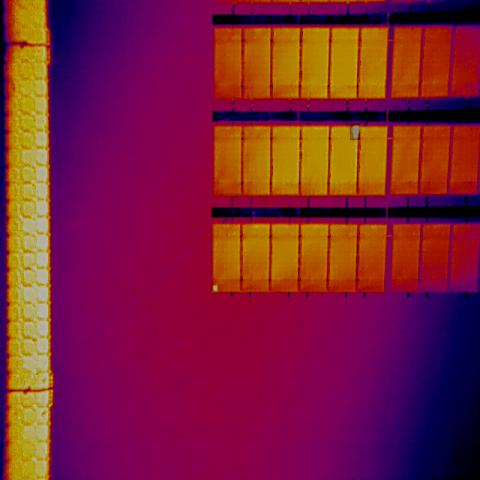fault: (350, 123, 360, 140), (211, 282, 219, 292)
